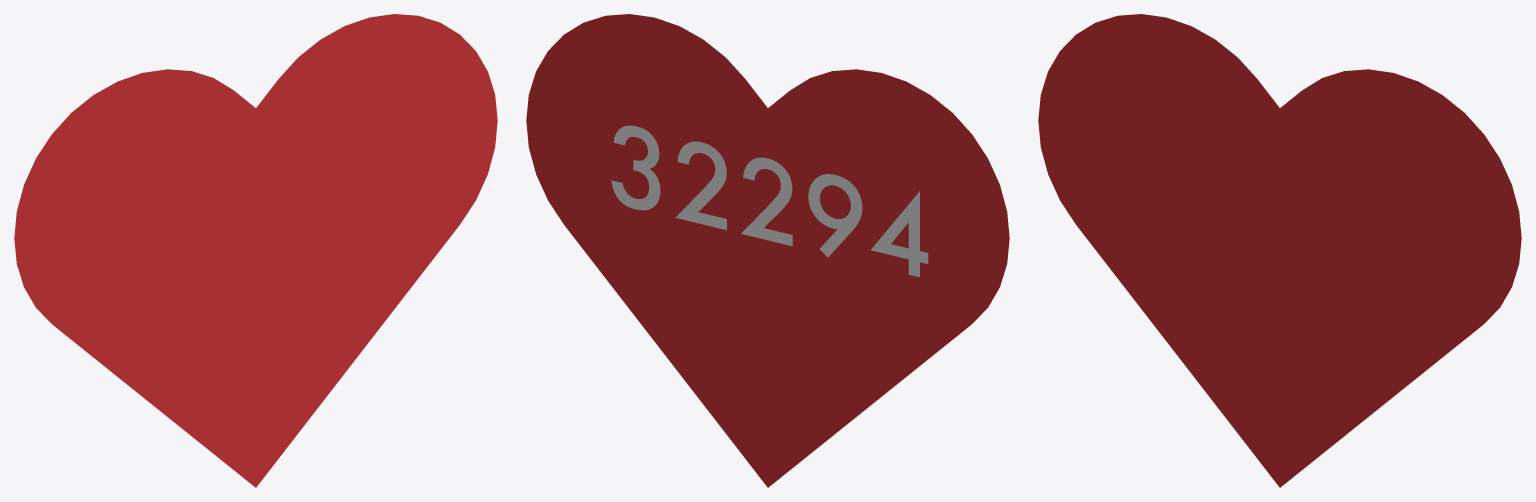
File: hrm_m_heart.fbx
The picture shows the model from 3 angles, left to right: view 1: azimuth 30°, elevation 25°; view 2: azimuth 150°, elevation 25°; view 3: azimuth 330°, elevation 25°; orthographic projection.
Visible parts, largest first — view 1: hrm_m_heart; view 2: hrm_m_heart; view 3: hrm_m_heart.
Part boxes in pixels (<box>): hrm_m_heart: <box>14,14,497,487</box>; hrm_m_heart: <box>526,14,1009,487</box>; hrm_m_heart: <box>1038,14,1521,487</box>.
Bounding box in the file's own units: 0.049 × 0.000215 × 0.0429.
